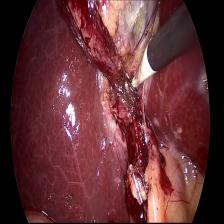Hook: (122, 43, 163, 93)
